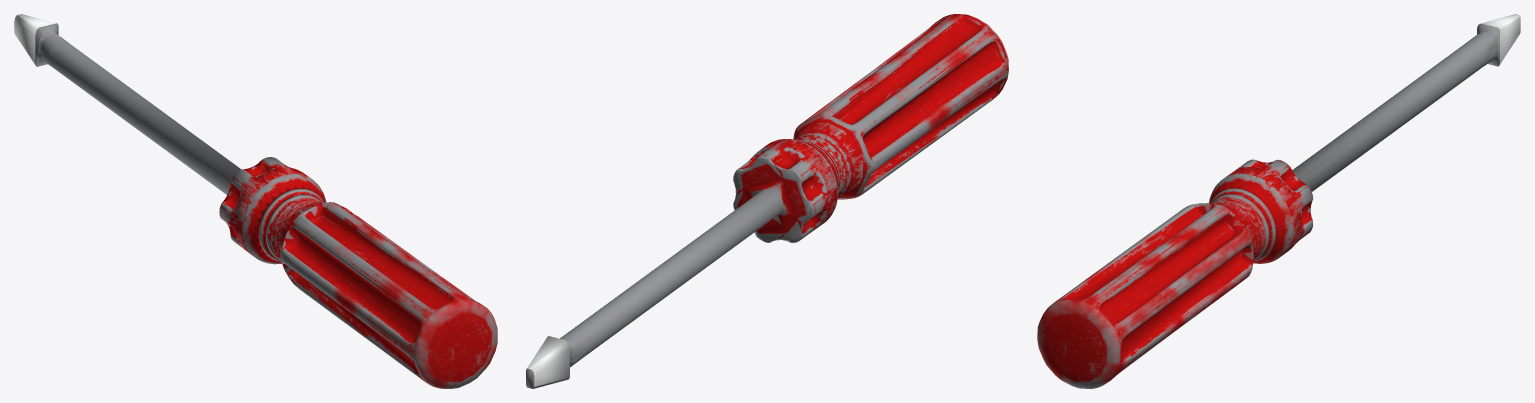
File: screwdriver.fbx
3 views of the same model, side by side, from view 1: azimuth 30°, elevation 25°; view 2: azimuth 150°, elevation 25°; view 3: azimuth 330°, elevation 25° (orthographic).
Parts seen in each view (by area): view 1: Cylinder_Screwdriver_0; view 2: Cylinder_Screwdriver_0; view 3: Cylinder_Screwdriver_0.
Part boxes in pixels (left/top/right/bottom): Cylinder_Screwdriver_0: left=14, top=14, right=497, bottom=388; Cylinder_Screwdriver_0: left=526, top=14, right=1008, bottom=388; Cylinder_Screwdriver_0: left=1037, top=14, right=1520, bottom=388.
Size of the model in its own units: 4.04 by 4.03 by 36.84.
1 material, 1 textured.
